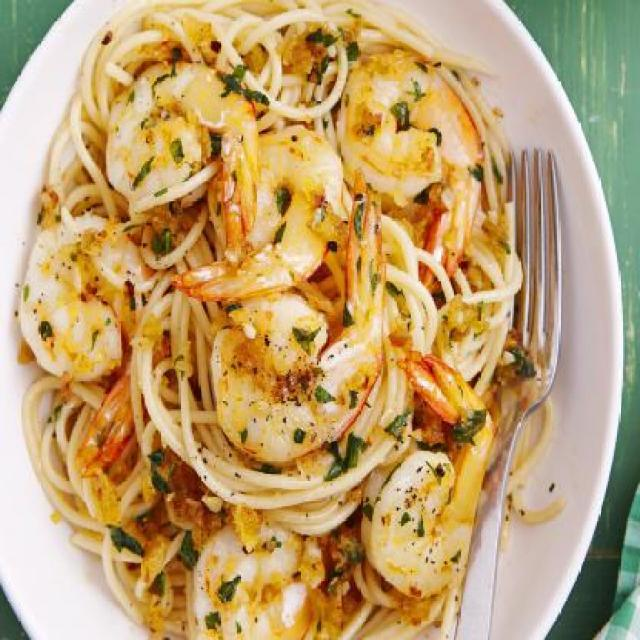Oil pasta: (31, 14, 554, 620)
